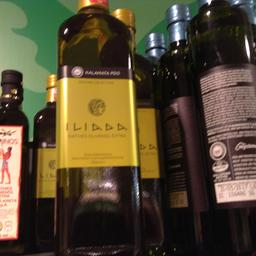oil: (55, 0, 144, 255), (184, 0, 255, 253), (0, 70, 29, 255)
